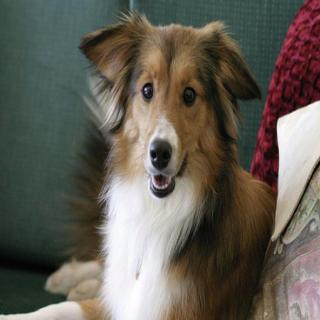dog: (72, 1, 261, 220)
nose: (149, 137, 172, 171)
